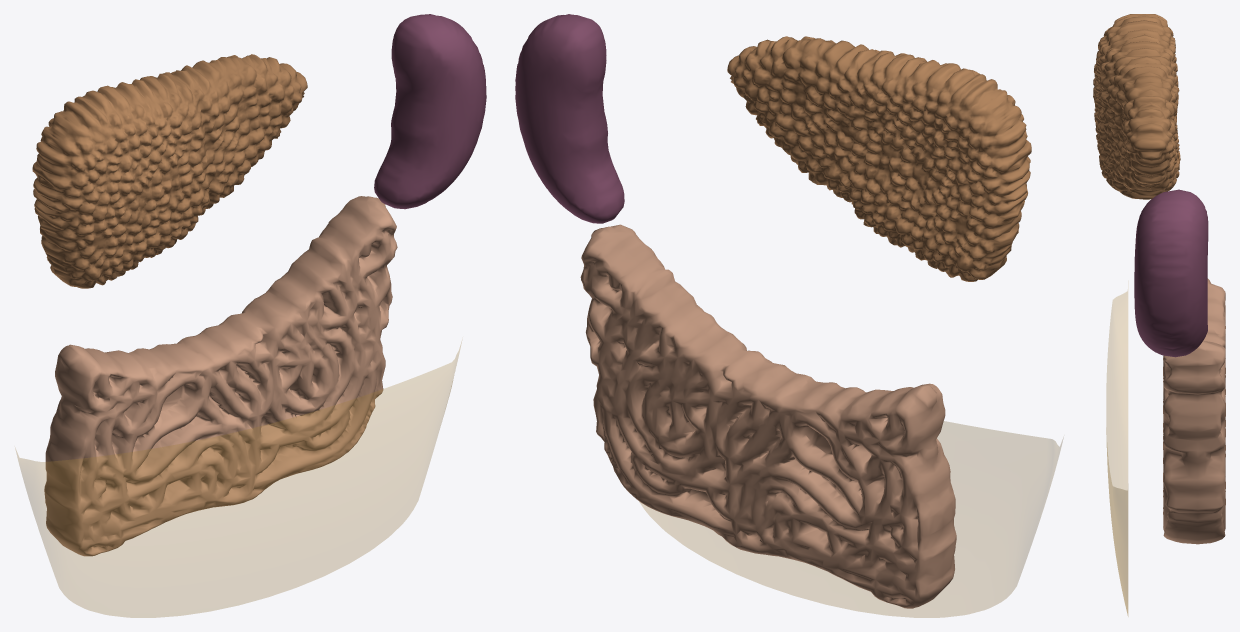
File: organs-cirr-decomp.glb
3 views of the same model, side by side, from view 1: azimuth 30°, elevation 25°; view 2: azimuth 150°, elevation 25°; view 3: azimuth 270°, elevation 25° (orthographic). The views are drawn at different scales.
Visible parts, largest first — view 1: bowel, ascites, liver, spleen; view 2: bowel, liver, ascites, spleen; view 3: liver, bowel, spleen, ascites.
Boxes of the visible parts, x1,y1,x2,y2 form: bowel: (44,196,397,556); ascites: (15,342,461,617); liver: (32,54,307,288); spleen: (374,14,486,209); bowel: (580,224,956,608); liver: (727,36,1031,281); ascites: (640,421,1063,617); spleen: (515,14,624,223); liver: (1093,14,1180,199); bowel: (1163,278,1225,544); spleen: (1134,189,1208,357); ascites: (1106,291,1128,616).
Size of the model in its own units: 2.61 by 2.76 by 0.6596.
